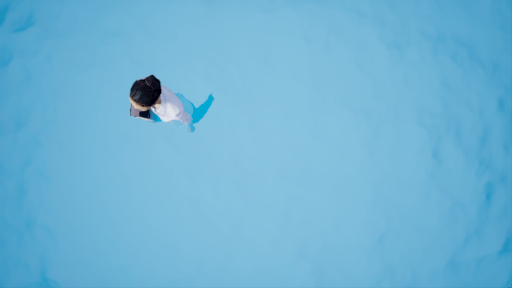person: (125, 76, 210, 132)
